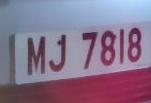1: (116, 24, 128, 71)
7: (78, 25, 100, 76)
8: (99, 25, 118, 73), (125, 23, 143, 69)
J: (47, 32, 68, 77)
M: (22, 34, 49, 80)
